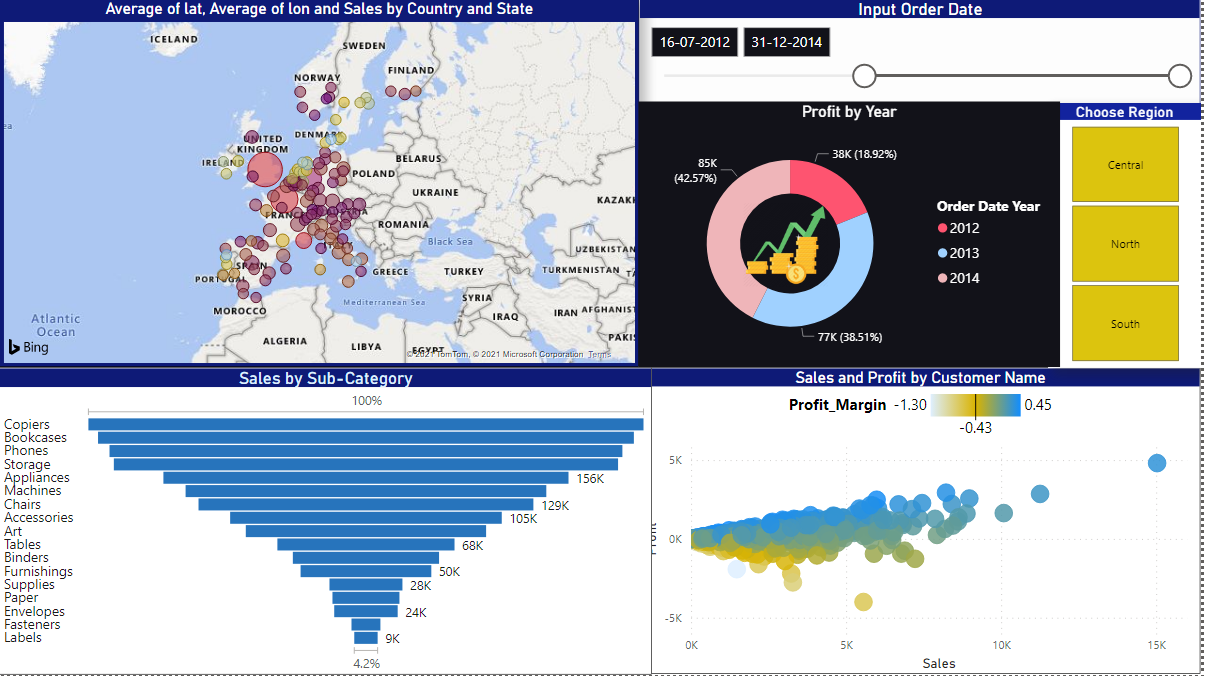

What the dashboard file says about the page in this screenshot:
{"tool":"powerbi","page":{"name":"Page 1","canvas":[1280,720],"ordinal":2},"visuals":[{"type":"map","fields":{"Category":["ListOfOrders.Geography.Country","ListOfOrders.Geography.State","ListOfOrders.Geography.City"],"Y":["Avg(ListOfOrders.lat)"],"X":["Avg(ListOfOrders.lon)"],"Size":["Sum(OrderBreakdown.Sales)"]},"box":[0,0,681.7,392.7],"z":0},{"type":"scatterChart","fields":{"X":["Sum(OrderBreakdown.Sales)"],"Y":["Sum(OrderBreakdown.Profit)"],"Category":["ListOfOrders.Customer Name"]},"box":[681.9,392,598.1,326.6],"z":1000},{"type":"slicer","title":"Input Order Date","fields":{"Values":["ListOfOrders.Order Date"]},"box":[681.9,0,598.1,161.3],"z":2000},{"type":"slicer","title":"Choose Region","fields":{"Values":["ListOfOrders.Region"]},"box":[1117,111,163.3,281.7],"z":3000},{"type":"donutChart","fields":{"Y":["Sum(OrderBreakdown.Profit)"],"Category":["ListOfOrders.Order Date.Variation.Date Hierarchy.Year","ListOfOrders.Order Date.Variation.Date Hierarchy.Quarter","ListOfOrders.Order Date.Variation.Date Hierarchy.Month","ListOfOrders.Order Date.Variation.Date Hierarchy.Day"]},"box":[681.7,110.2,448.6,282.6],"z":4000},{"type":"funnel","fields":{"Category":["OrderBreakdown.Sub-Category"],"Y":["Sum(OrderBreakdown.Sales)"]},"box":[0,392.7,696.1,327.3],"z":5000},{"type":"image","box":[696.1,212.3,284.2,100.6],"z":5001}]}

Visuals, with their boxes in screenshot pixels (x1, y1, x2, y2), scaled from the page's 1280x720 canvas onto the 1209x676 screenshot:
map - ListOfOrders.Geography.Country x ListOfOrders.Geography.State: left=0, top=0, right=644, bottom=369
scatterChart - Sum(OrderBreakdown.Sales) x Sum(OrderBreakdown.Profit): left=644, top=368, right=1208, bottom=675
"Input Order Date" slicer: left=644, top=0, right=1208, bottom=151
"Choose Region" slicer: left=1055, top=104, right=1208, bottom=369
donutChart - Sum(OrderBreakdown.Profit) x ListOfOrders.Order Date.Variation.Date Hierarchy.Year: left=644, top=103, right=1068, bottom=369
funnel - OrderBreakdown.Sub-Category x Sum(OrderBreakdown.Sales): left=0, top=369, right=657, bottom=675
image: left=657, top=199, right=926, bottom=294
